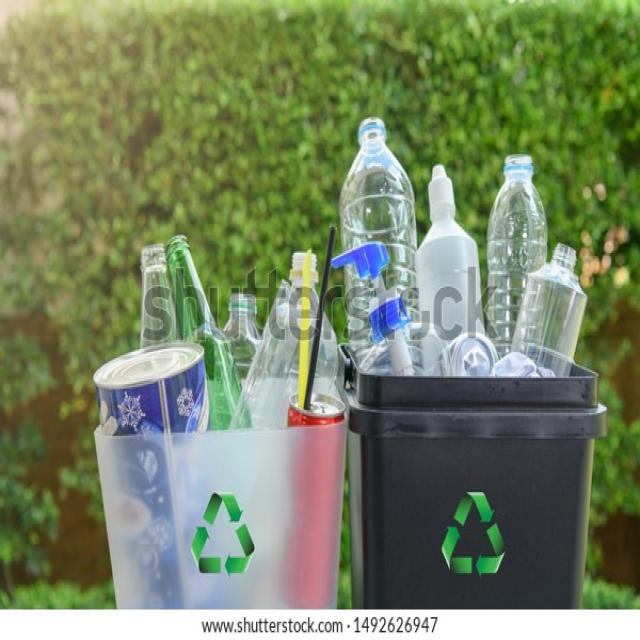glass: (169, 239, 256, 422), (130, 240, 165, 338)
metal: (96, 352, 210, 443), (288, 400, 352, 430)
plastic: (352, 119, 574, 379), (272, 259, 339, 390)
